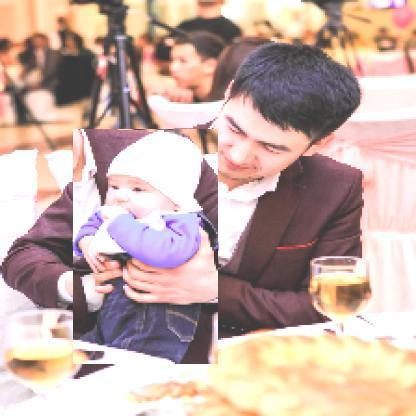child: (74, 130, 220, 366)
